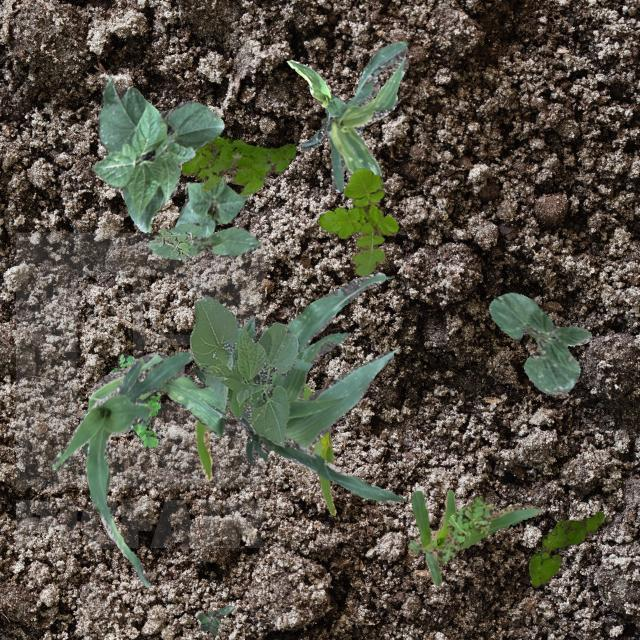crop: (194, 270, 404, 504), (50, 352, 190, 586), (92, 76, 224, 232), (193, 382, 334, 514), (188, 294, 296, 446), (79, 351, 227, 452), (406, 488, 540, 584), (326, 41, 408, 190), (488, 292, 590, 394), (286, 59, 344, 150), (174, 174, 246, 238), (144, 222, 258, 258)
weed: (318, 168, 398, 276), (180, 134, 294, 196), (528, 509, 604, 586), (108, 352, 160, 448), (434, 494, 492, 562), (154, 226, 192, 260), (196, 604, 232, 634)
